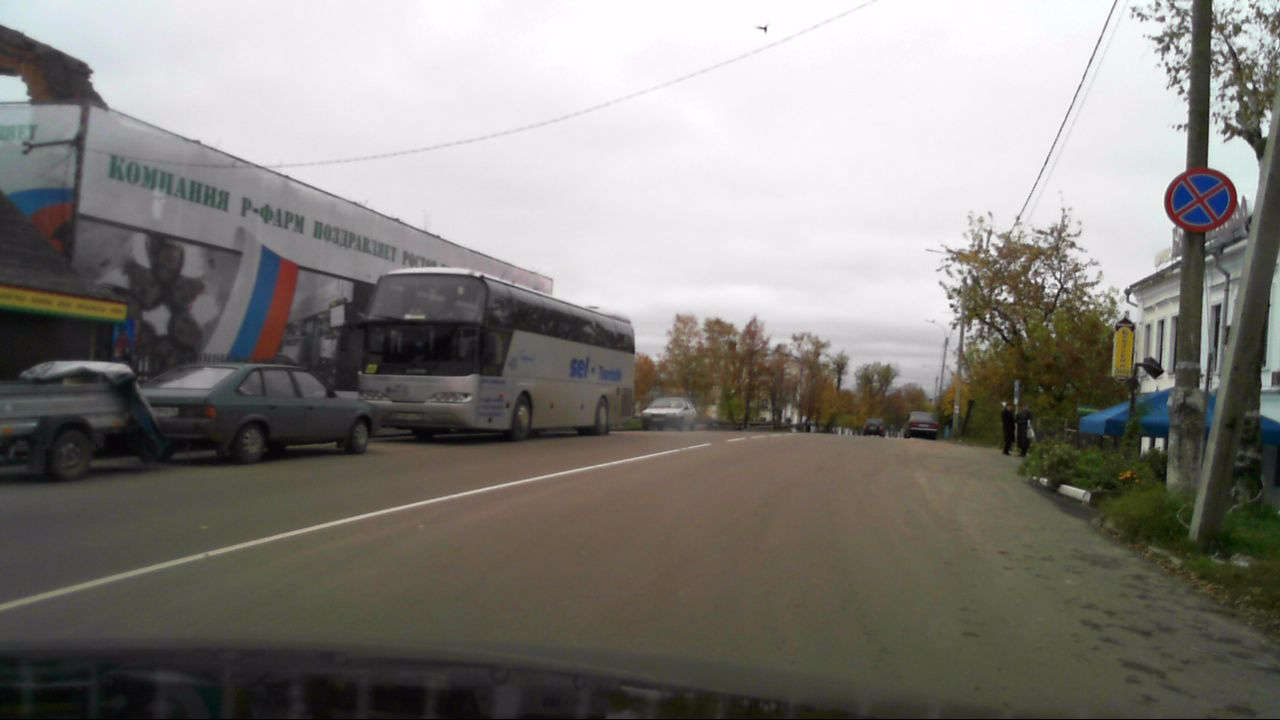No Parking: (1165, 167, 1234, 233)
